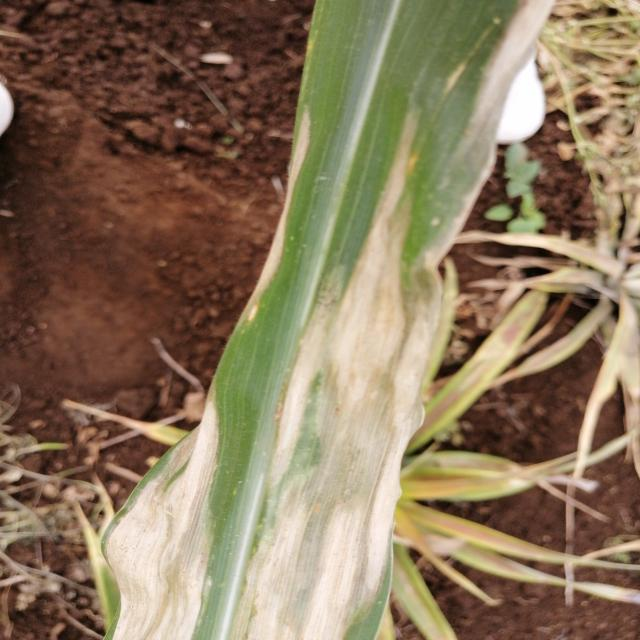Corn_Leaf_Blight: (97, 0, 553, 612)
